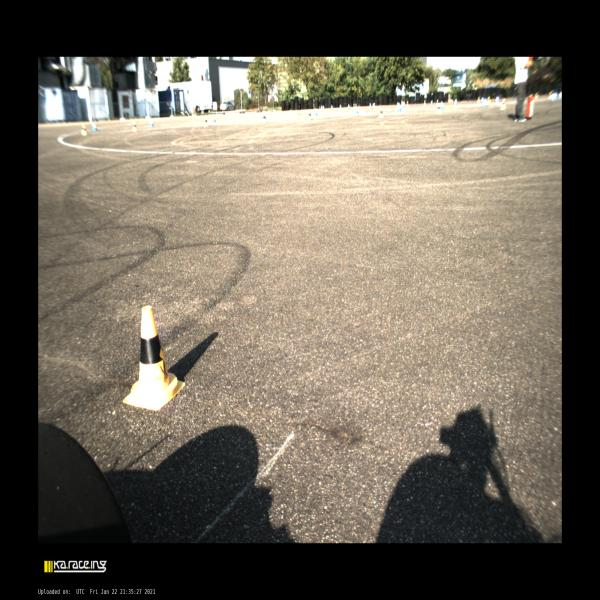yellow_cone: (123, 306, 185, 410)
